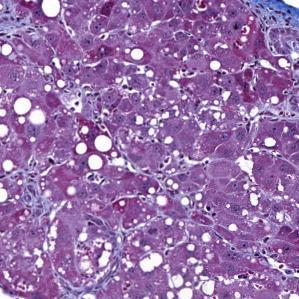fibrosis: (242, 0, 299, 36)
